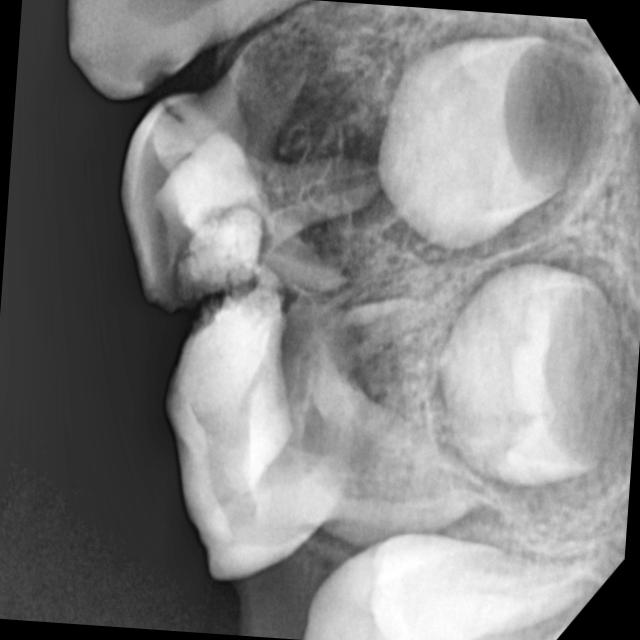Caries: (118, 150, 343, 487)
